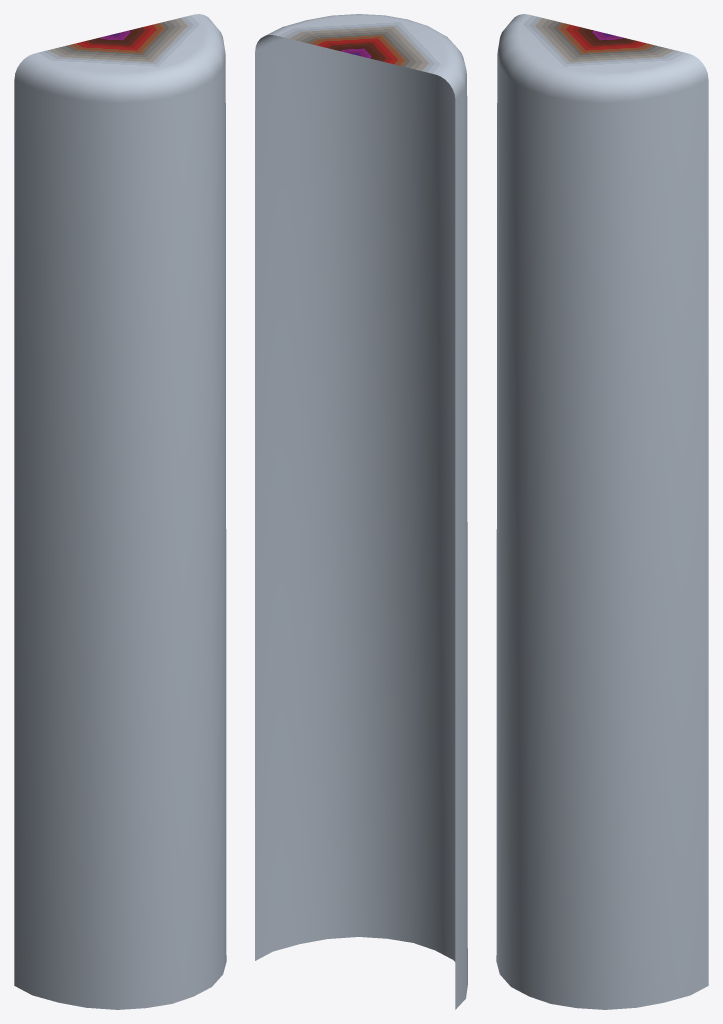
File: SplineRoundedMeshModel.fbx
3 views of the same model, side by side, from view 1: azimuth 30°, elevation 25°; view 2: azimuth 150°, elevation 25°; view 3: azimuth 330°, elevation 25° (orthographic).
Parts seen in each view (by area): view 1: Platform_RoundEnd; view 2: Platform_RoundEnd; view 3: Platform_RoundEnd.
Part boxes in pixels (box(x1,y1,x2,y2)): Platform_RoundEnd: box(14, 14, 226, 1009); Platform_RoundEnd: box(255, 14, 467, 1009); Platform_RoundEnd: box(496, 14, 708, 1009).
Bounding box in the file's own units: 500 × 2220 × 251.
